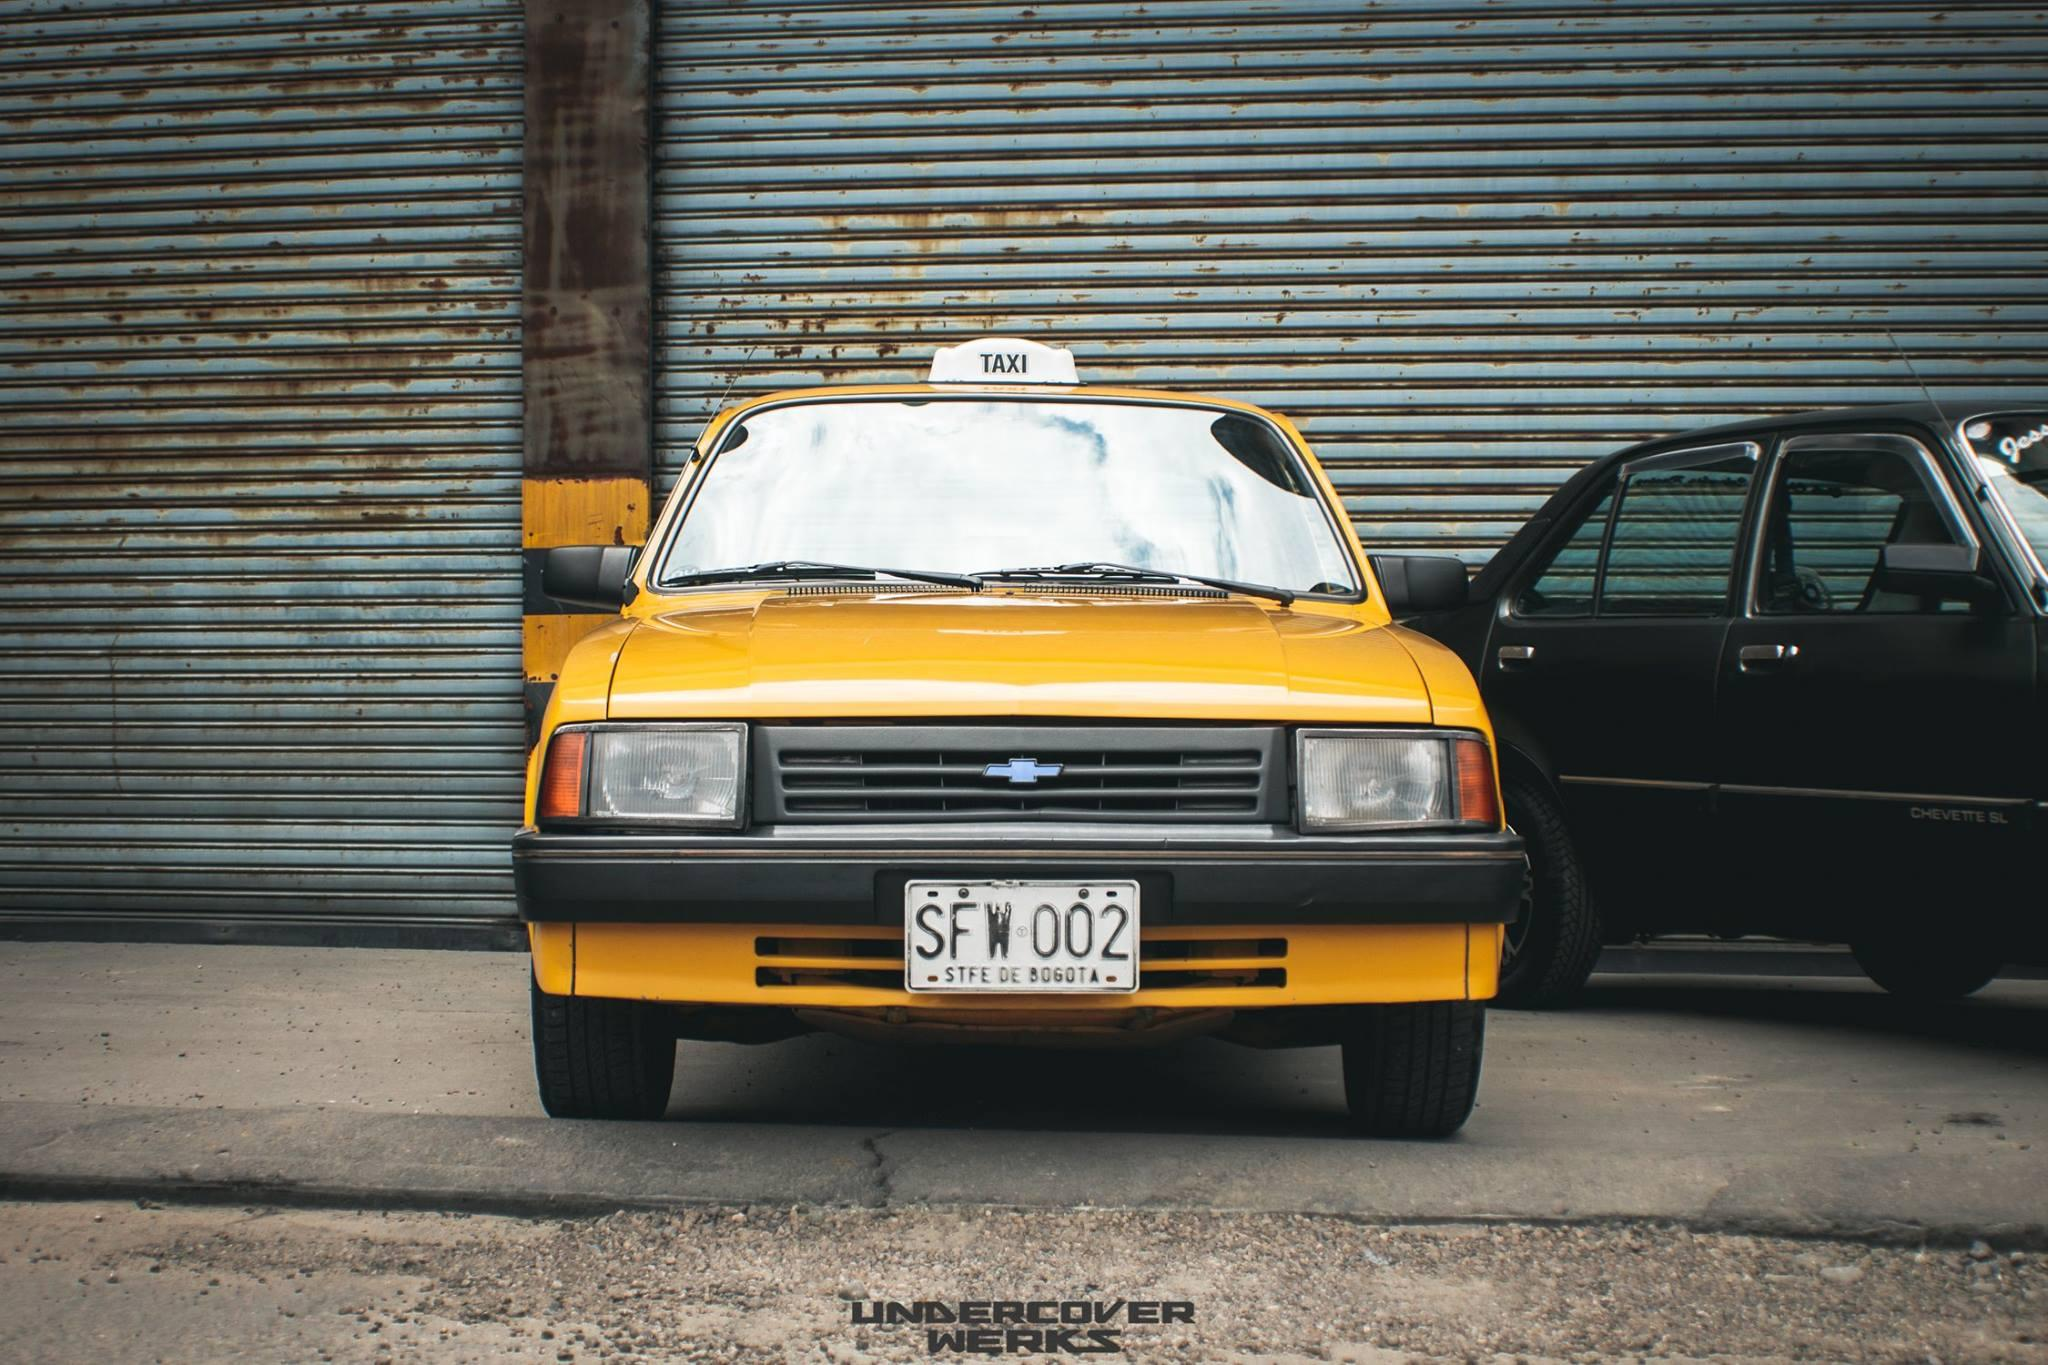taxi: (559, 292, 1568, 1170)
